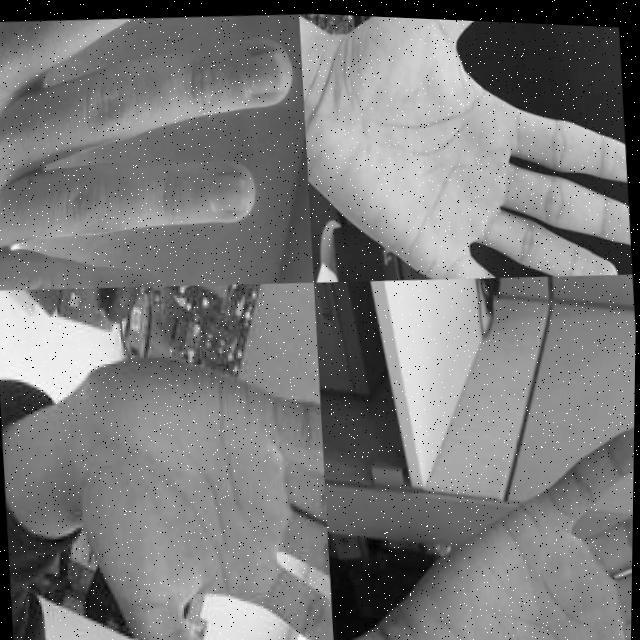no-gloves: (294, 11, 635, 290), (0, 1, 308, 301), (52, 331, 338, 640), (378, 401, 636, 640)
